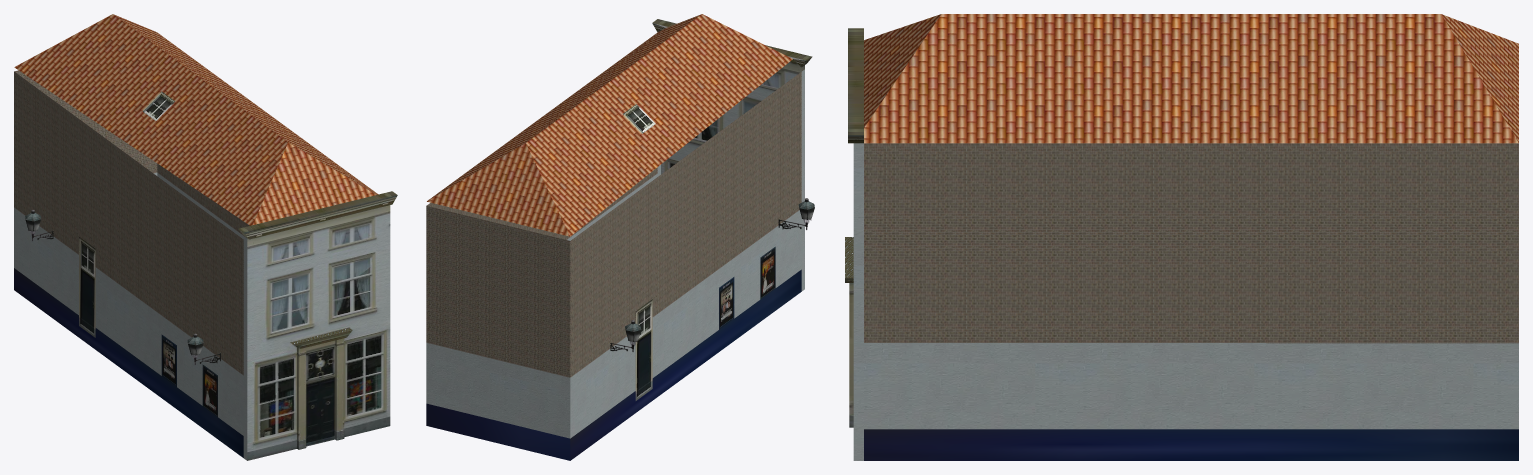
File: euroB_14.glb
3 views of the same model, side by side, from view 1: azimuth 30°, elevation 25°; view 2: azimuth 150°, elevation 25°; view 3: azimuth 270°, elevation 25° (orthographic). The views are drawn at different scales.
Parts seen in each view (by area): view 1: geometry_142, geometry_29, geometry_9, geometry_15, geometry_42, geometry_24, geometry_10, geometry_16, geometry_0, geometry_21, geometry_22; view 2: geometry_142, geometry_29, geometry_15, geometry_42, geometry_9, geometry_16, geometry_0, geometry_21, geometry_22; view 3: geometry_142, geometry_29, geometry_15, geometry_42, geometry_24, geometry_10.
Boxes of the visible parts, x1=… form: geometry_142: x1=14, y1=70, x2=249, y2=375; geometry_29: x1=14, y1=14, x2=378, y2=225; geometry_9: x1=247, y1=205, x2=390, y2=460; geometry_15: x1=14, y1=172, x2=247, y2=460; geometry_42: x1=14, y1=268, x2=243, y2=457; geometry_24: x1=238, y1=191, x2=397, y2=239; geometry_10: x1=297, y1=338, x2=344, y2=449; geometry_16: x1=79, y1=237, x2=95, y2=337; geometry_0: x1=202, y1=364, x2=217, y2=416; geometry_21: x1=161, y1=334, x2=176, y2=386; geometry_22: x1=142, y1=91, x2=174, y2=120; geometry_142: x1=426, y1=72, x2=801, y2=377; geometry_29: x1=427, y1=14, x2=792, y2=236; geometry_15: x1=426, y1=69, x2=804, y2=438; geometry_42: x1=426, y1=269, x2=801, y2=460; geometry_9: x1=661, y1=61, x2=804, y2=174; geometry_16: x1=635, y1=299, x2=652, y2=400; geometry_0: x1=760, y1=246, x2=775, y2=299; geometry_21: x1=719, y1=277, x2=734, y2=329; geometry_22: x1=623, y1=104, x2=655, y2=133; geometry_142: x1=864, y1=143, x2=1518, y2=343; geometry_29: x1=864, y1=14, x2=1518, y2=143; geometry_15: x1=853, y1=143, x2=1518, y2=460; geometry_42: x1=864, y1=429, x2=1518, y2=460; geometry_24: x1=848, y1=28, x2=863, y2=135; geometry_10: x1=849, y1=283, x2=853, y2=427.
Bounding box in the file's own units: 6.32 × 9.09 × 13.98.
Materials: 21 (20 with a texture image).
